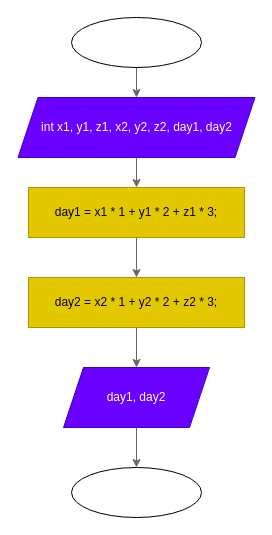
The diagram is 272 pixels wide and 535 high, and some of its shapes have lost their labels. Here are the shapes that lost their labels. From the top down, the centre of each, then its label:
At (x=136, y=42): "Начало".
At (x=136, y=492): "Конец".
